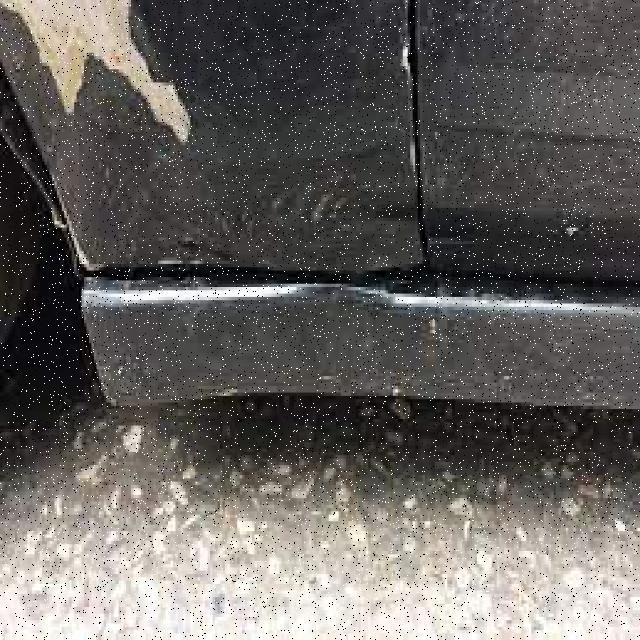RunningBoard-Dent: (57, 254, 638, 449)
